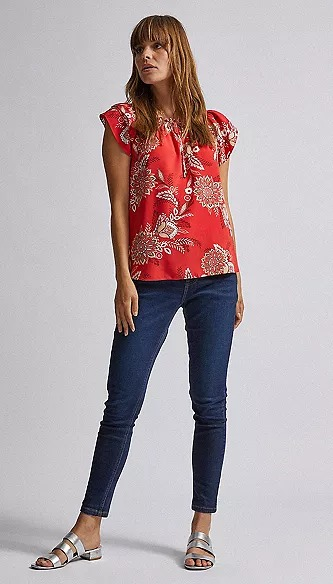C_jeans: (79, 275, 239, 515)
C_short blouse: (97, 102, 245, 281)
